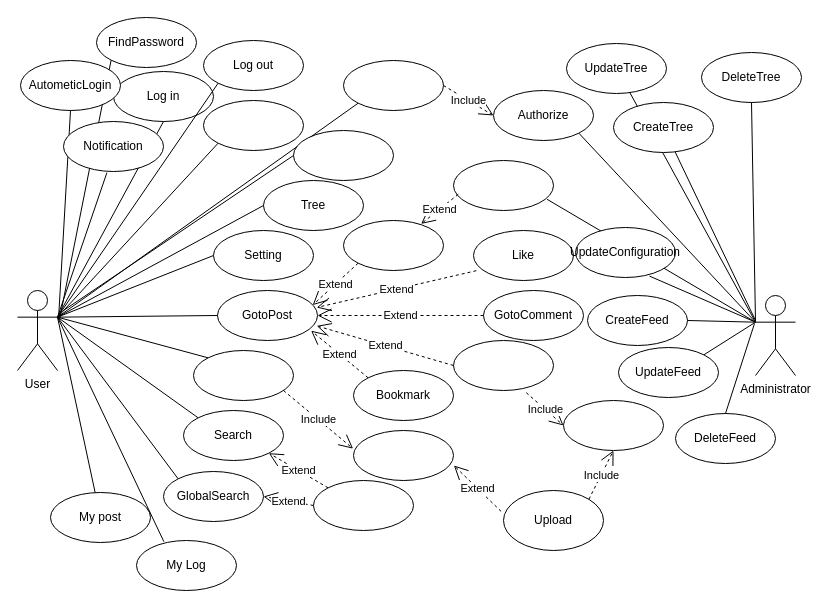
This 828x608 diagram has some shape labels left out. The centre of each missing label's shape, as x and y in pixels:
Alert regulation: pixel 403 455
CreatePost: pixel 243 375
DeletePost: pixel 503 185
Filter: pixel 363 505
My page: pixel 343 155
Register: pixel 393 85
Report: pixel 393 245
Send Direct Message: pixel 253 125
Store log: pixel 613 425
Update: pixel 503 365
